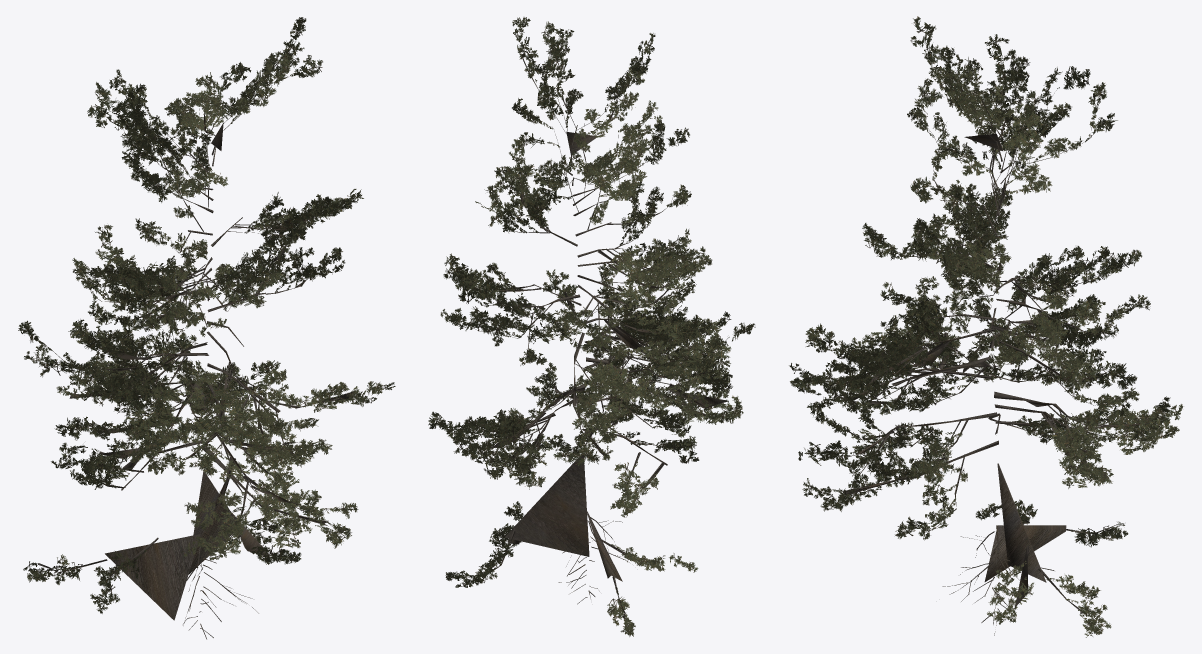
File: pine-sapling-medium-b.glb
3 renders of one model, left to right at view 1: azimuth 30°, elevation 25°; view 2: azimuth 150°, elevation 25°; view 3: azimuth 270°, elevation 25°, orthographic. The views are drawn at different scales.
Parts seen in each view (by area): view 1: pine_sapling_medium_b; view 2: pine_sapling_medium_b; view 3: pine_sapling_medium_b.
Boxes of the visible parts, x1,y1,x2,y2 form: pine_sapling_medium_b: [18, 17, 395, 639]; pine_sapling_medium_b: [428, 17, 755, 636]; pine_sapling_medium_b: [789, 16, 1183, 637].
Bounding box in the file's own units: 4.8 × 9.13 × 5.46.
Materials: 2 (2 with a texture image).
